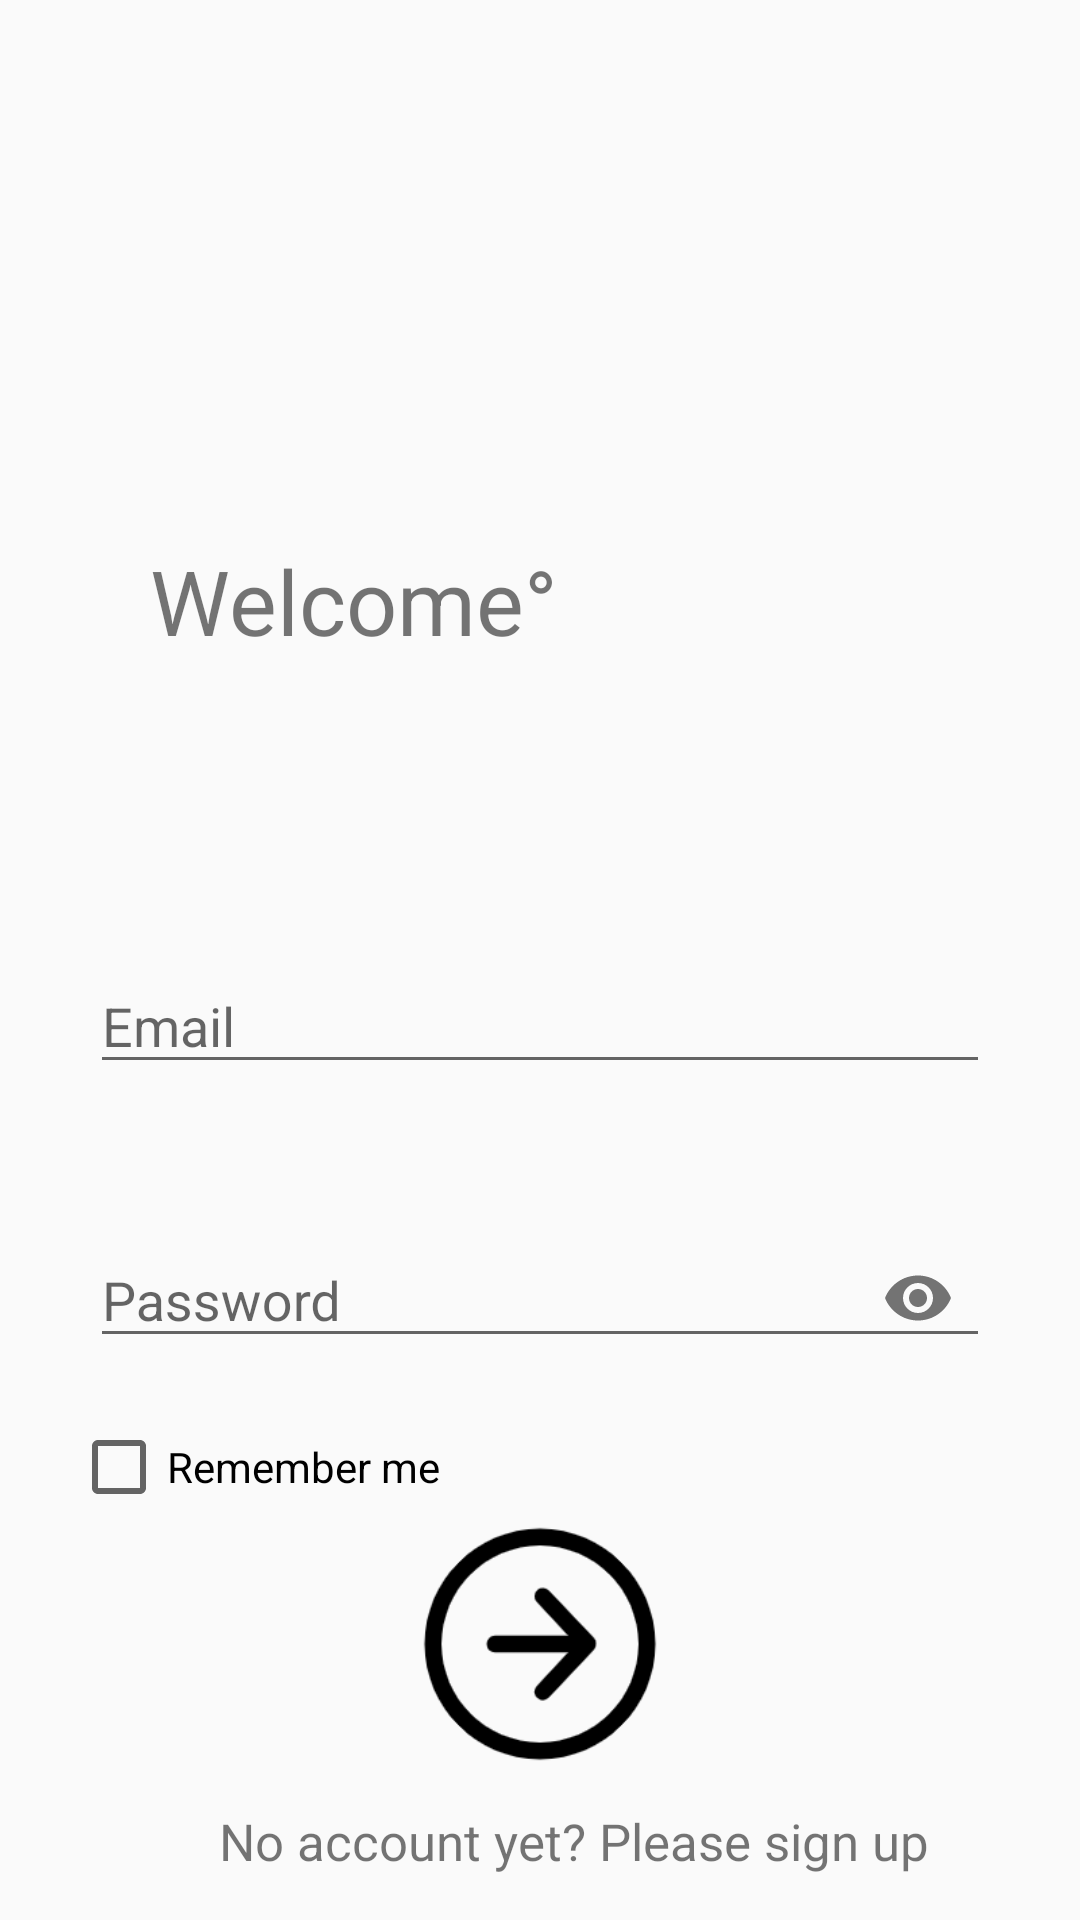

Screen size 1080px×1920px. Icon name, then its center in pixels as point (x, y):
arrow right circle: point (540, 1644)
